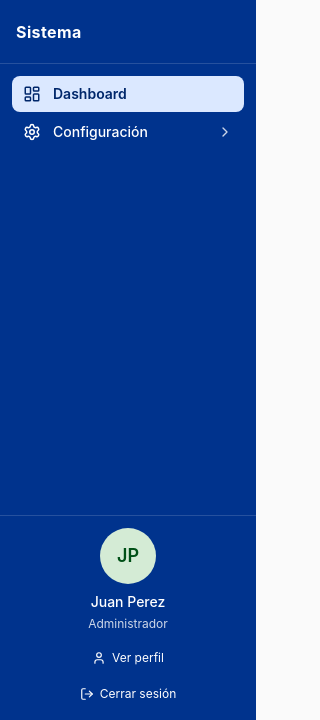
it: Sidebar › expands the group on click when sidebar is open
Step 1. Click the button "Configuración" → {"x": 128, "y": 132}, box [12, 114, 244, 150]
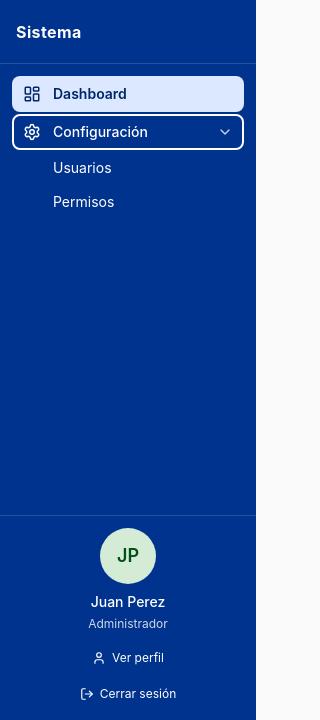
Expected: the link "Usuarios" is shown, [53, 159, 112, 176]
Expected: the link "Permisos" is shown, [53, 193, 114, 210]
